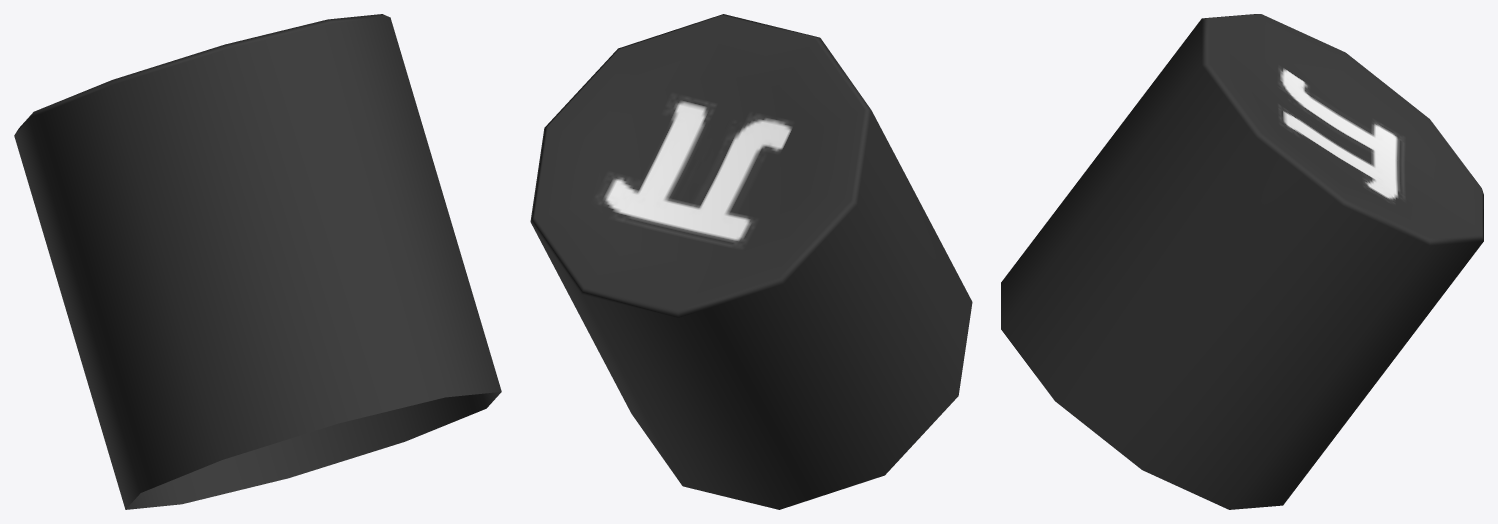
File: crystal_controller_left_button1.obj
3 renders of one model, left to right at view 1: azimuth 30°, elevation 25°; view 2: azimuth 150°, elevation 25°; view 3: azimuth 270°, elevation 25°, orthographic. The views are drawn at different scales.
Parts seen in each view (by area): view 1: crystal_controller_left_button1; view 2: crystal_controller_left_button1; view 3: crystal_controller_left_button1.
Part boxes in pixels (x1,y1,x2,y2): crystal_controller_left_button1: [14, 14, 501, 509]; crystal_controller_left_button1: [530, 14, 972, 509]; crystal_controller_left_button1: [1001, 14, 1483, 509].
Size of the model in its own units: 0.00983 by 0.0133 by 0.0132.
1 material, 1 textured.
